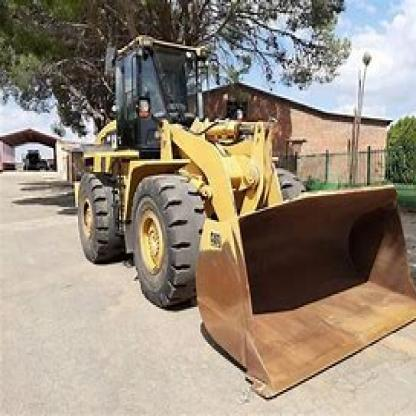bull_dozer/loader/grader: (66, 30, 414, 400)
